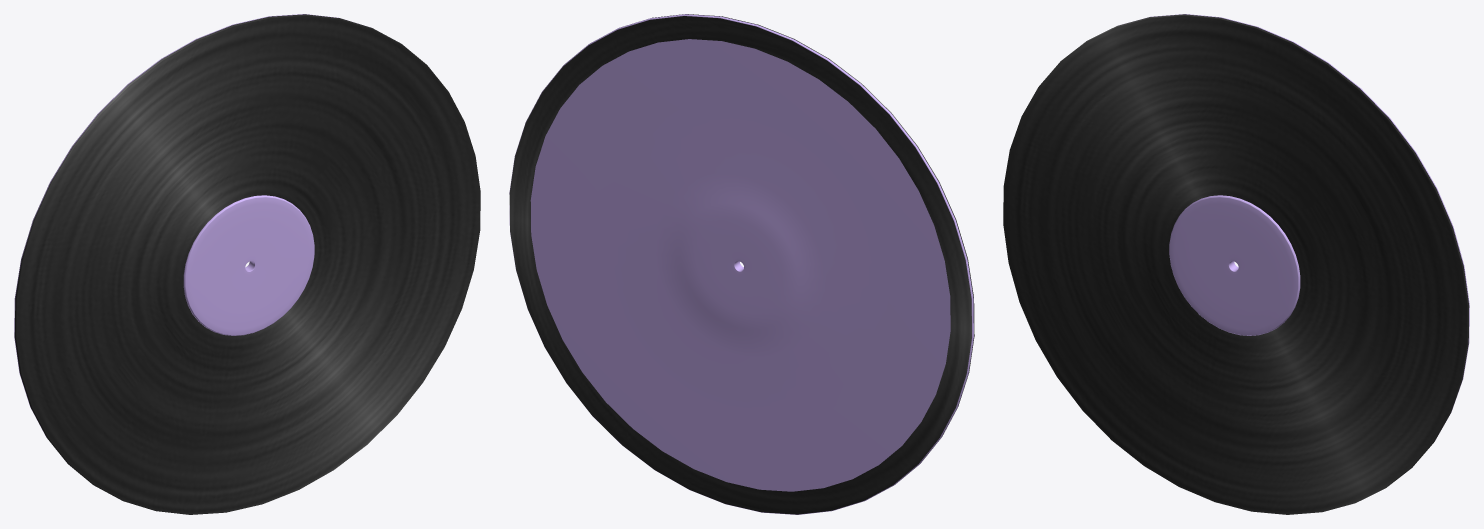
File: Vinyl_L1.fbx
3 renders of one model, left to right at view 1: azimuth 30°, elevation 25°; view 2: azimuth 150°, elevation 25°; view 3: azimuth 330°, elevation 25°, orthographic.
Parts seen in each view (by area): view 1: Vinyl_L_1; view 2: Vinyl_L_1; view 3: Vinyl_L_1.
Part boxes in pixels (x1,y1,x2,y2): Vinyl_L_1: [14, 14, 480, 514]; Vinyl_L_1: [509, 14, 974, 514]; Vinyl_L_1: [1003, 14, 1469, 514].
Size of the model in its own units: 3.26 by 0.0708 by 3.26.
Materials: 2 (1 with a texture image).
